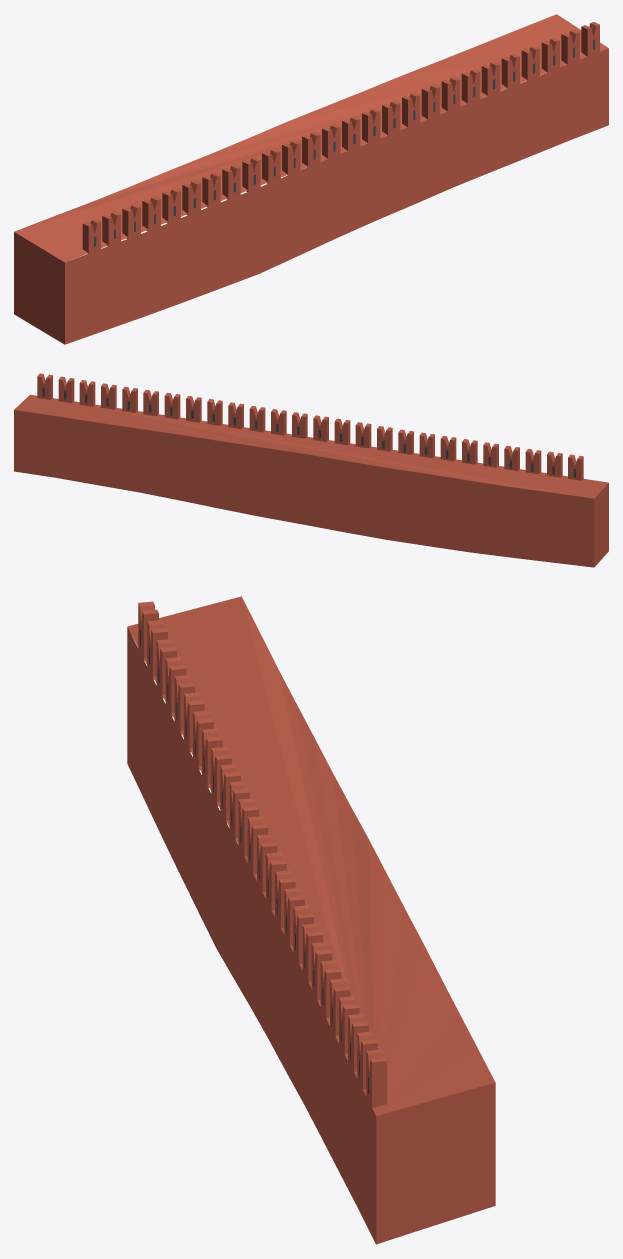
File: moscow-kremlin-wall-taynitskaya-first-unnamed.glb
3 renders of one model, top to bottom at view 1: azimuth 30°, elevation 25°; view 2: azimuth 150°, elevation 25°; view 3: azimuth 270°, elevation 25°, orthographic. The views are drawn at different scales.
Visible parts, largest first — view 1: Kremlin Wall, Taynitskaya Tower to First Unnamed Tower; view 2: Kremlin Wall, Taynitskaya Tower to First Unnamed Tower; view 3: Kremlin Wall, Taynitskaya Tower to First Unnamed Tower.
Boxes of the visible parts, box(x1,y1,x2,y2) form: Kremlin Wall, Taynitskaya Tower to First Unnamed Tower: box(14, 14, 608, 344); Kremlin Wall, Taynitskaya Tower to First Unnamed Tower: box(14, 373, 608, 567); Kremlin Wall, Taynitskaya Tower to First Unnamed Tower: box(127, 596, 495, 1244).
Size of the model in its own units: 54.82 by 9.95 by 16.47.
